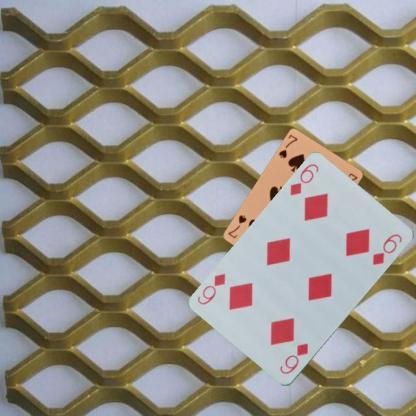6d: (276, 340, 310, 376), (287, 162, 320, 198)
7s: (276, 132, 299, 160)
